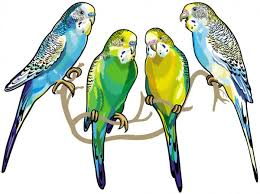budgie: (3, 1, 98, 174), (180, 1, 260, 148), (82, 29, 139, 193), (143, 26, 190, 194)
